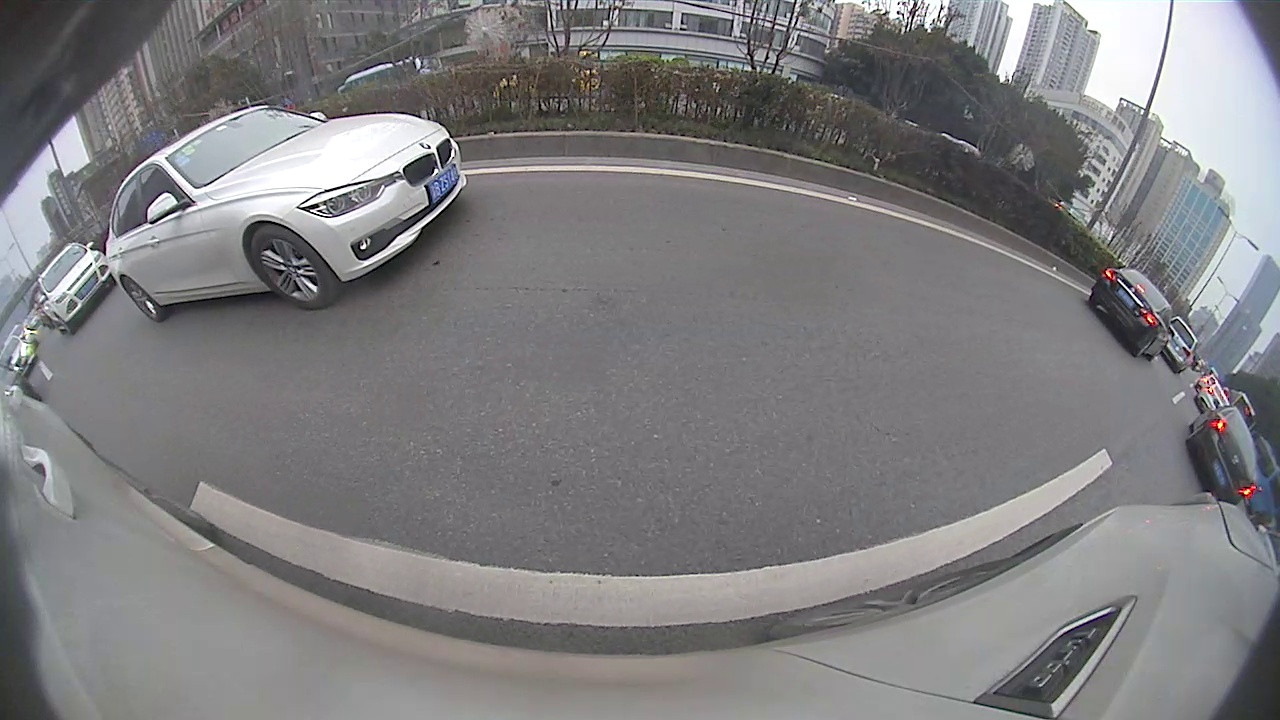bus: (317, 168, 448, 200), (642, 147, 675, 179)
car: (1040, 234, 1198, 338), (873, 176, 1048, 264), (746, 155, 828, 205), (830, 166, 906, 209), (702, 159, 740, 184), (683, 162, 708, 179), (611, 163, 632, 179)
front: (1045, 250, 1071, 277), (877, 197, 893, 223), (749, 180, 758, 192)
rear: (1137, 299, 1165, 329), (955, 222, 980, 252), (777, 182, 786, 197)
